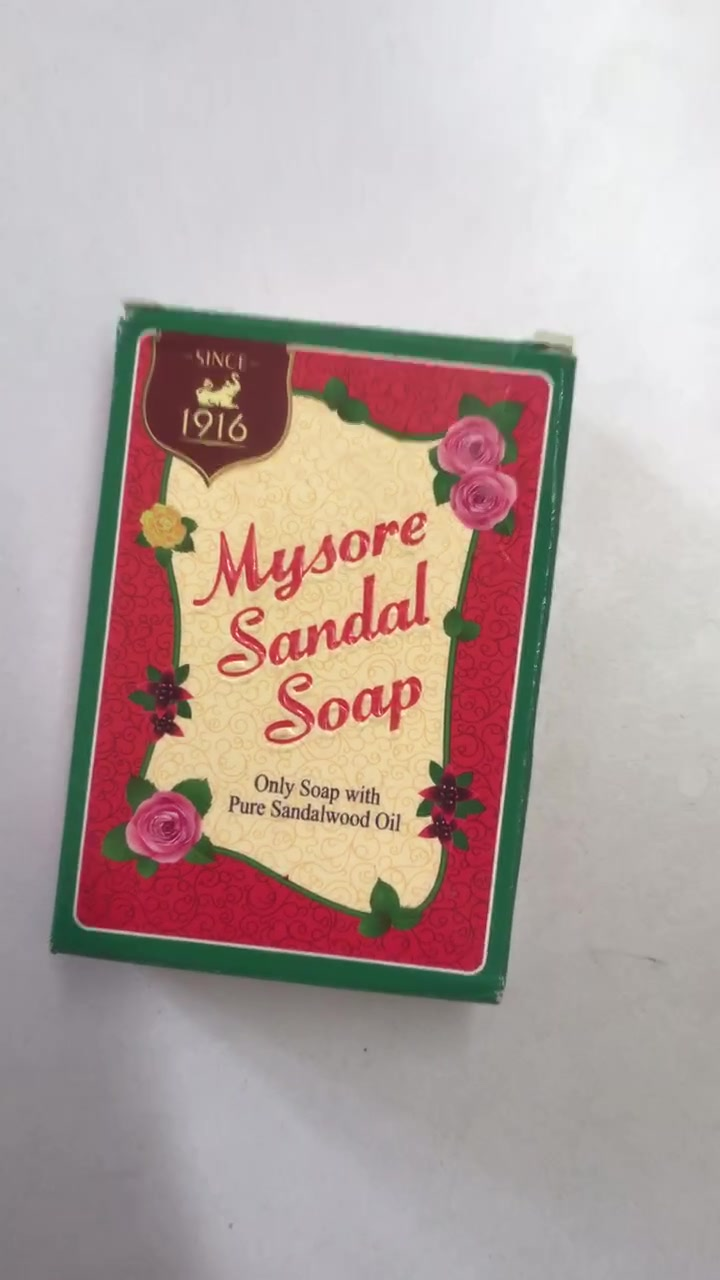mysore sandal soap: (49, 307, 576, 1006)
